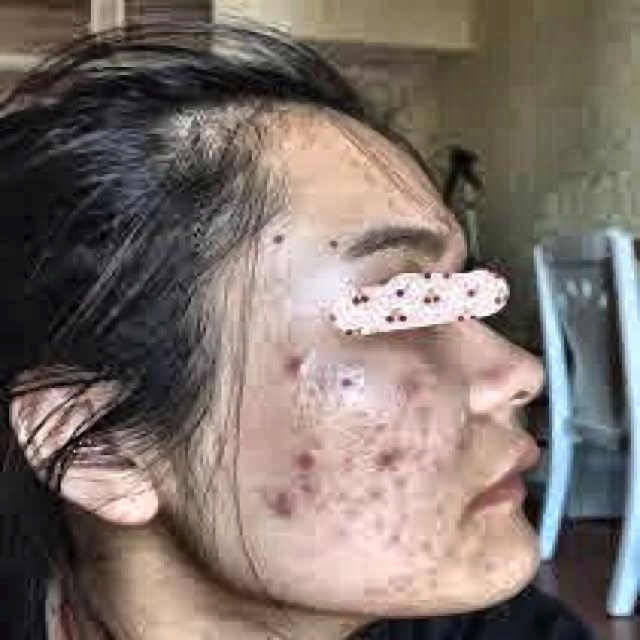pustule: (255, 487, 312, 525), (370, 444, 406, 476), (291, 471, 319, 493), (404, 375, 424, 399), (297, 447, 322, 466), (288, 354, 303, 372)
